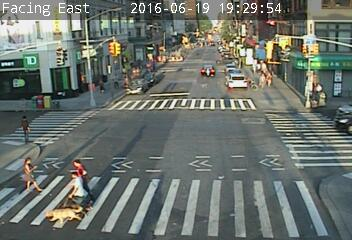neg: (302, 71, 320, 95), (332, 82, 344, 98), (206, 63, 217, 78)
pos: (60, 171, 91, 212), (13, 155, 43, 195), (12, 112, 36, 144), (69, 158, 89, 183), (94, 75, 108, 93), (255, 71, 269, 88), (109, 73, 121, 90), (264, 71, 276, 87), (119, 63, 128, 75), (254, 60, 263, 71), (261, 61, 268, 70)
